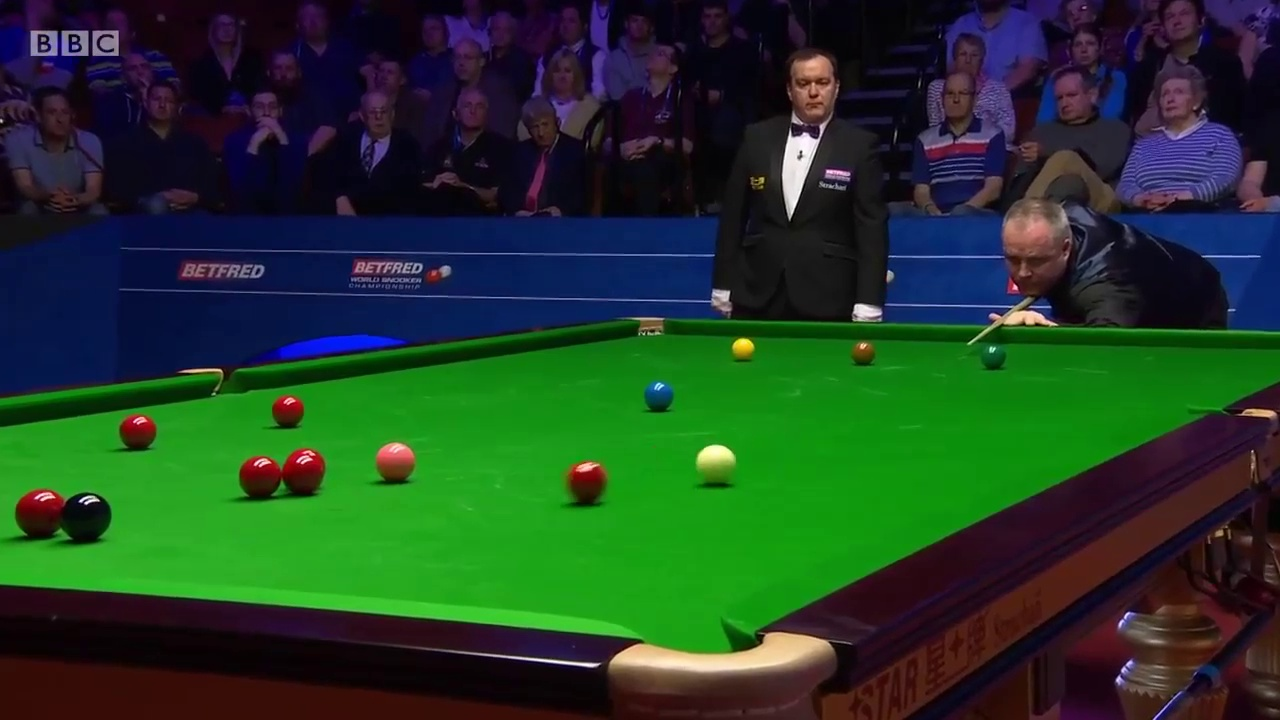baseball glove: (734, 345, 756, 362)
black: (61, 489, 112, 540)
blue: (645, 381, 673, 411)
brown: (849, 340, 875, 366)
green: (980, 344, 1007, 369)
pink: (375, 443, 415, 478)
red: (15, 488, 59, 537), (238, 457, 281, 499), (284, 456, 320, 496), (567, 462, 604, 499), (119, 416, 155, 452), (270, 396, 303, 425)
white: (697, 445, 738, 485)
